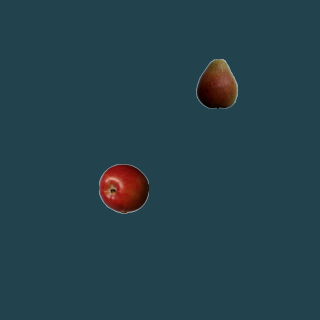Apple Braeburn: (98, 163, 148, 213)
Pear Forelle: (191, 58, 241, 108)
